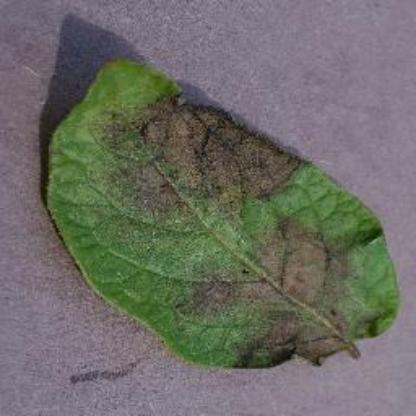Late-Blight: (40, 52, 406, 368)
